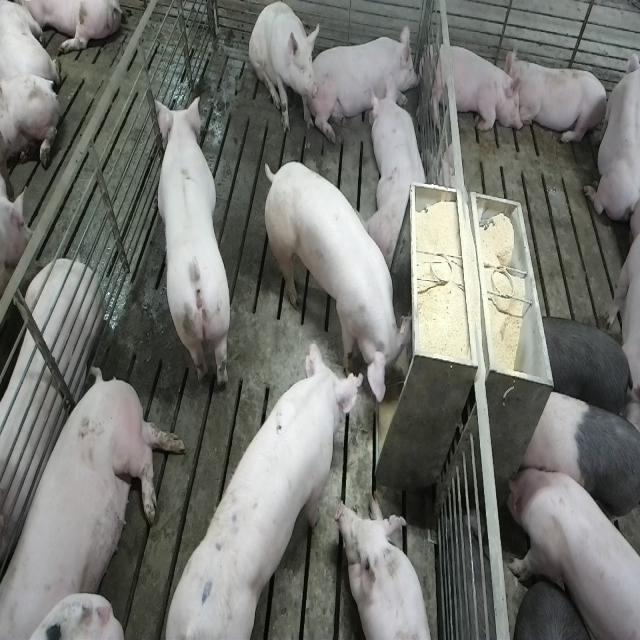Lateral_lying: (5, 362, 187, 636), (0, 257, 102, 577)
Sitting: (249, 2, 320, 136)
Standing: (161, 328, 364, 635), (262, 164, 410, 408), (151, 93, 231, 395), (504, 462, 638, 640), (517, 384, 638, 548), (538, 314, 637, 422)
Sternal_lying: (338, 497, 436, 640), (314, 22, 424, 139), (370, 84, 430, 268), (583, 39, 637, 226), (508, 51, 610, 149), (425, 38, 521, 138)
